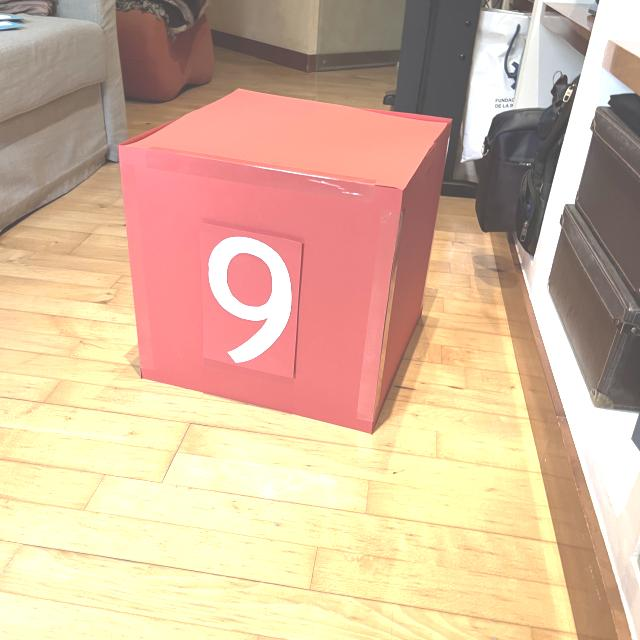box: (111, 84, 456, 437)
